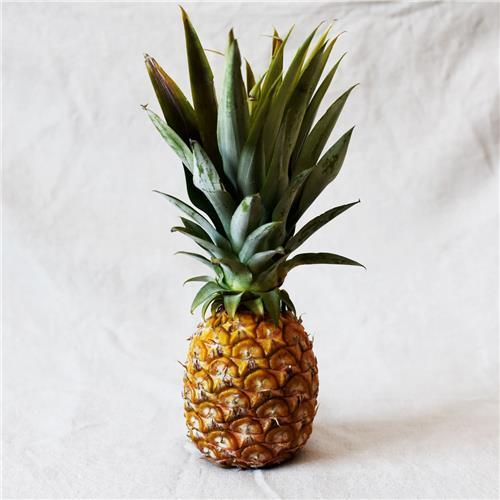pineapple: (128, 10, 361, 476)
